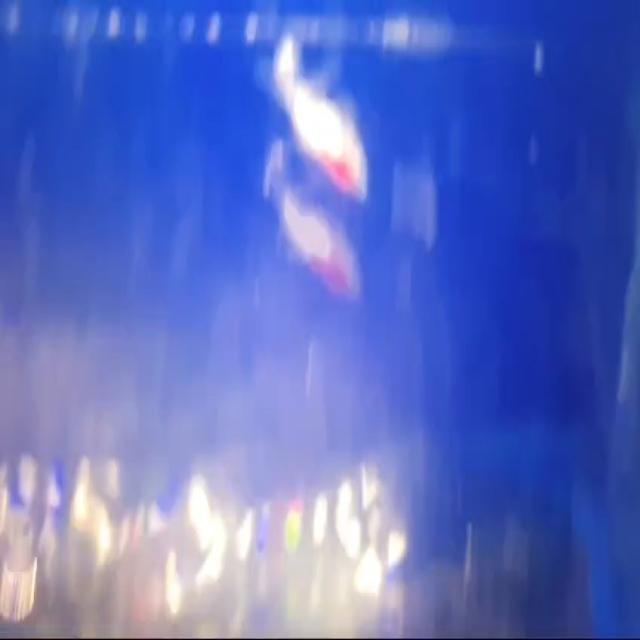fish: (245, 150, 371, 322), (260, 52, 371, 214)
